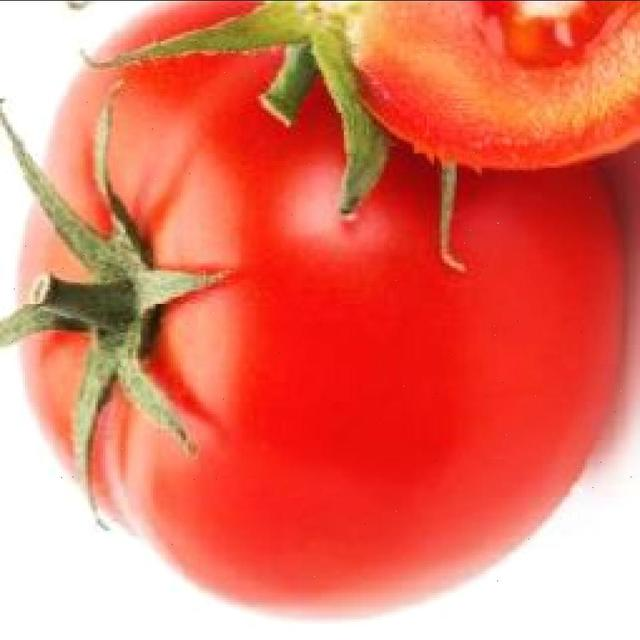Healthy Fruit: (12, 1, 412, 406)
